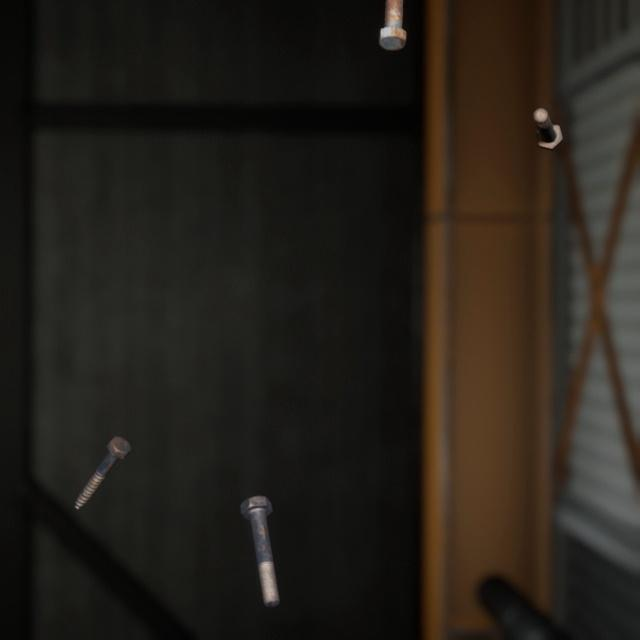bolt: (235, 469, 284, 588), (69, 410, 135, 492), (529, 90, 567, 142), (374, 0, 411, 50)
